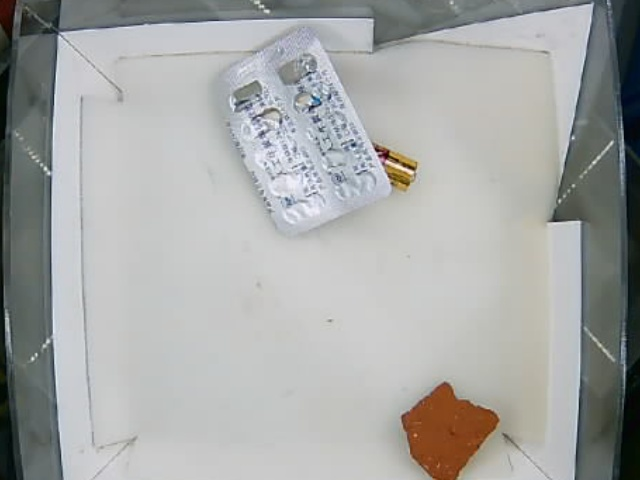Battery: (368, 143, 419, 194)
Brisk: (401, 379, 500, 479)
Medicine: (217, 28, 391, 232)
